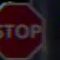Stop: (0, 1, 47, 58)
